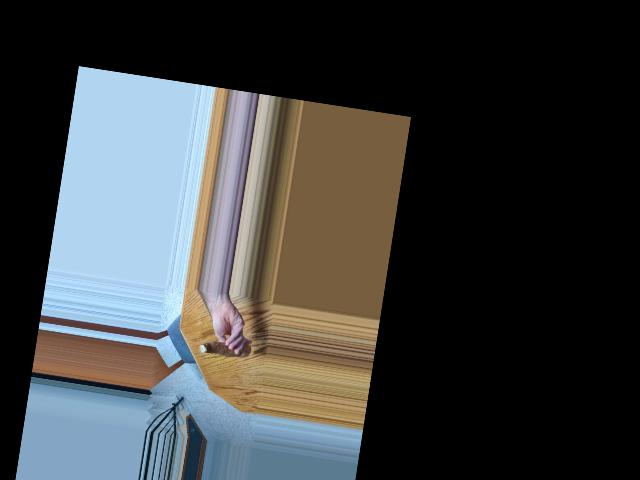sweet_potato: (197, 340, 242, 357)
